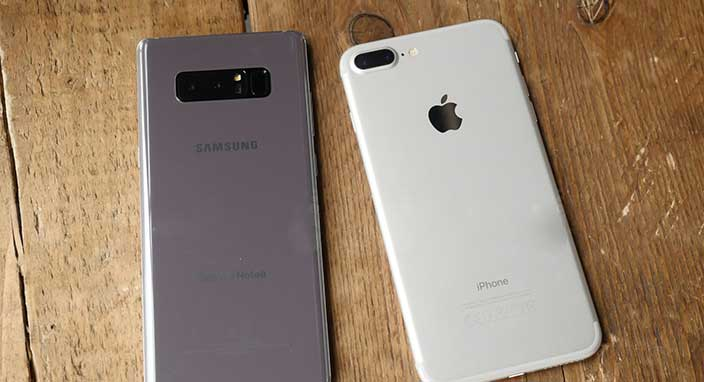apple: (412, 85, 487, 149)
